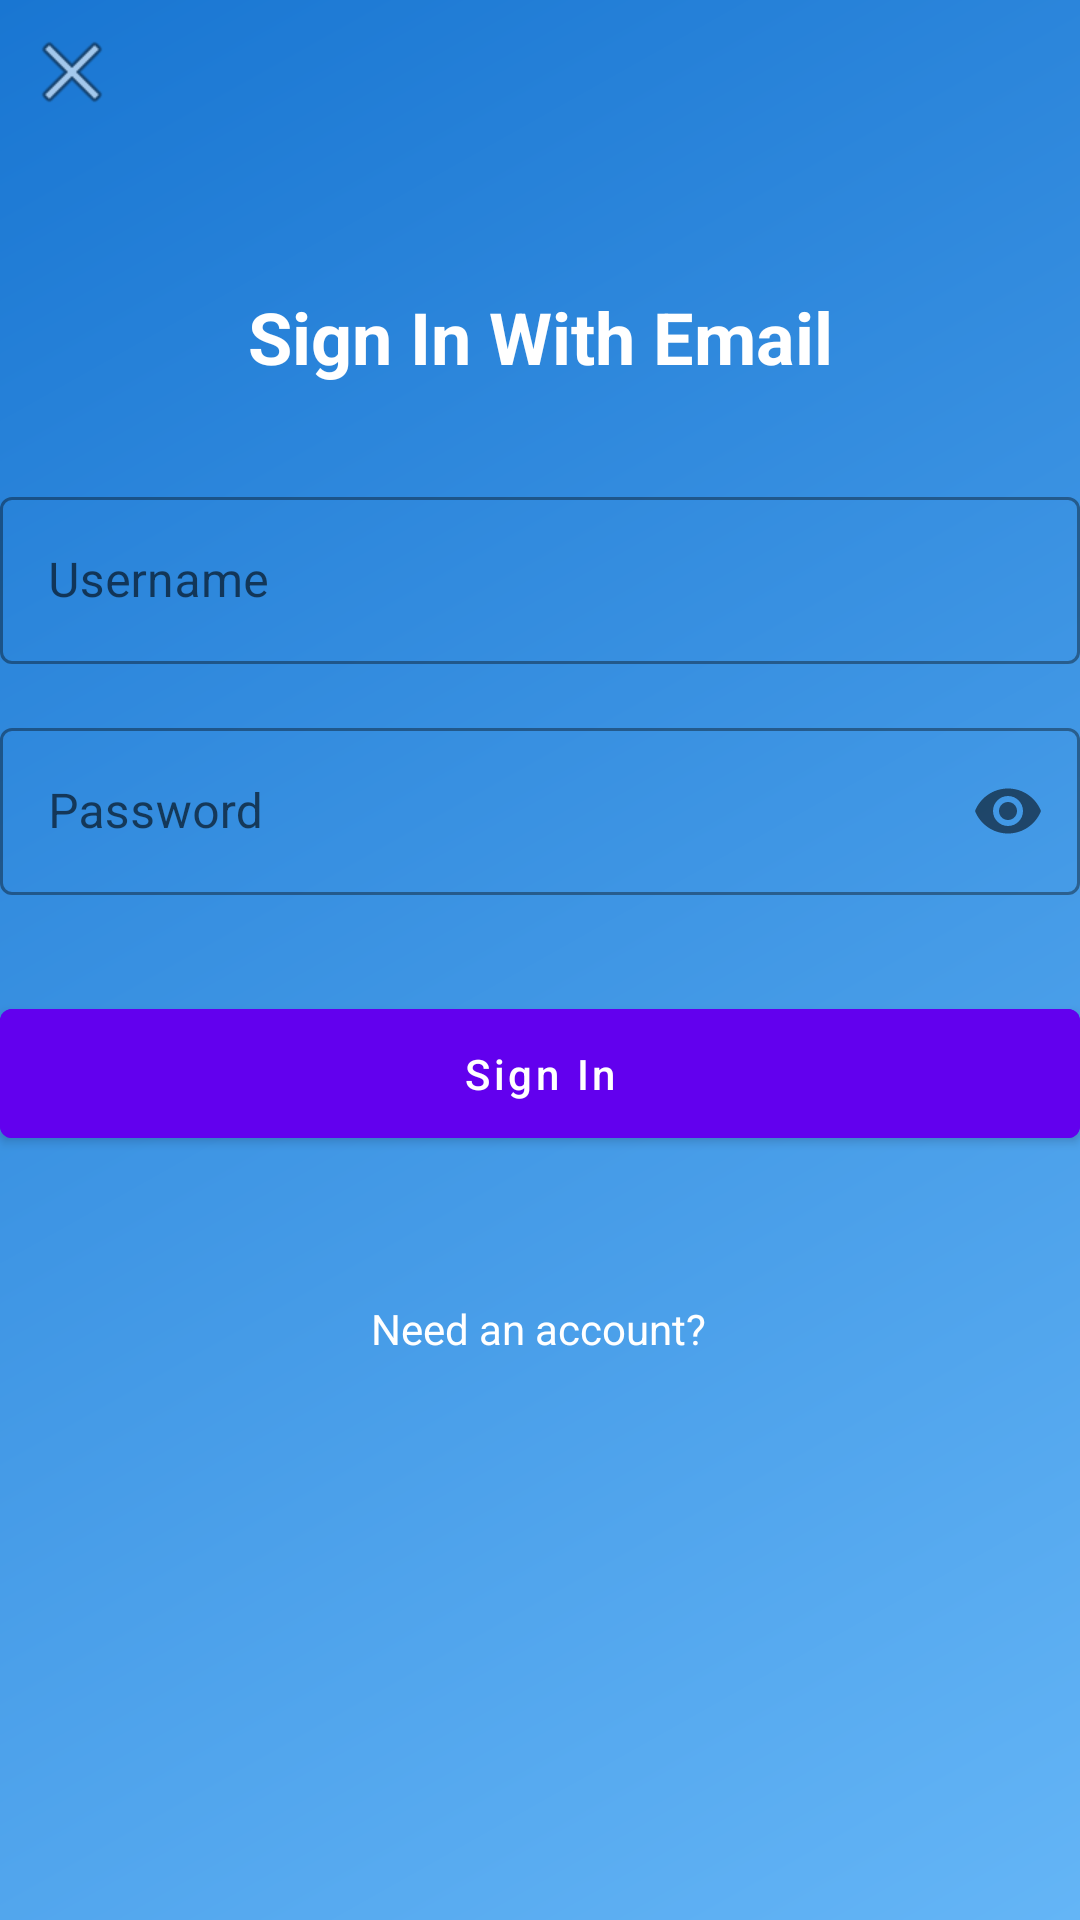

Where icons sit on this 1080*1920 app screen, as region(x1, y1, x2, y2):
Close: region(42, 42, 102, 102)
